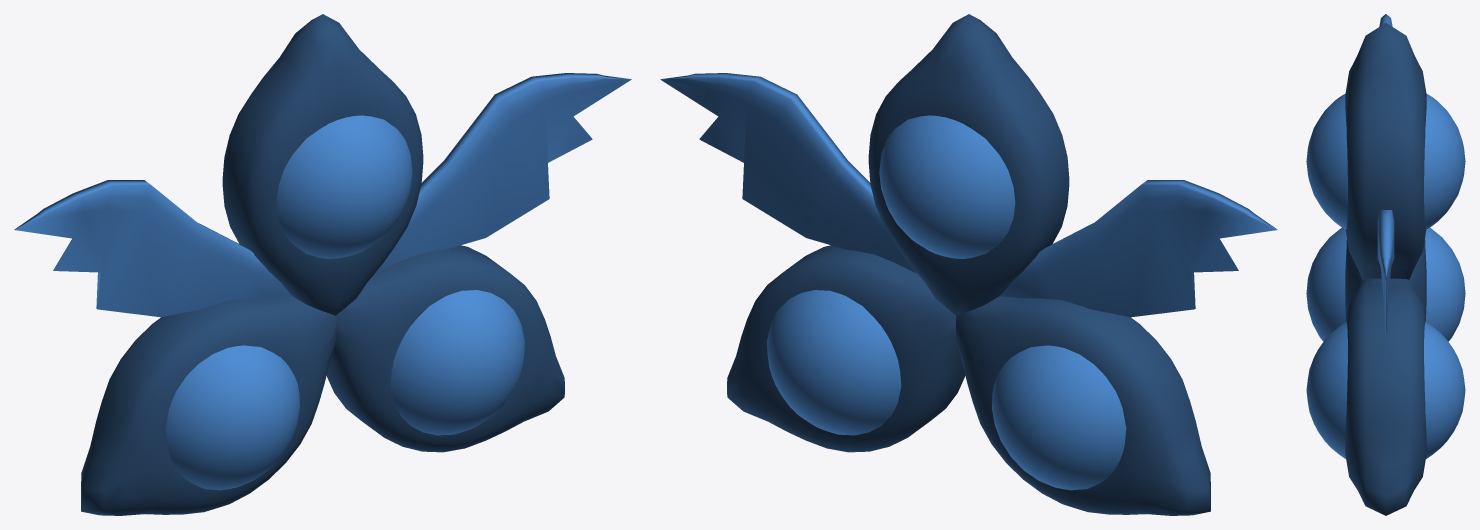
3 views of the same model, side by side, from view 1: azimuth 30°, elevation 25°; view 2: azimuth 150°, elevation 25°; view 3: azimuth 270°, elevation 25° (orthographic). The views are drawn at different scales.
Visible parts, largest first — view 1: Torso.003, Auge.003, Flügel.003; view 2: Torso.003, Auge.003, Flügel.003; view 3: Torso.003, Auge.003, Flügel.003.
Part boxes in pixels (box(x1,y1,x2,y2)): Torso.003: box(81, 14, 564, 515); Auge.003: box(165, 115, 524, 490); Flügel.003: box(14, 73, 631, 317); Torso.003: box(727, 14, 1210, 515); Auge.003: box(767, 115, 1126, 490); Flügel.003: box(660, 73, 1277, 317); Torso.003: box(1345, 23, 1426, 515); Auge.003: box(1306, 93, 1465, 458); Flügel.003: box(1377, 14, 1394, 332).
Bounding box in the file's own units: 793 × 563 × 200.
